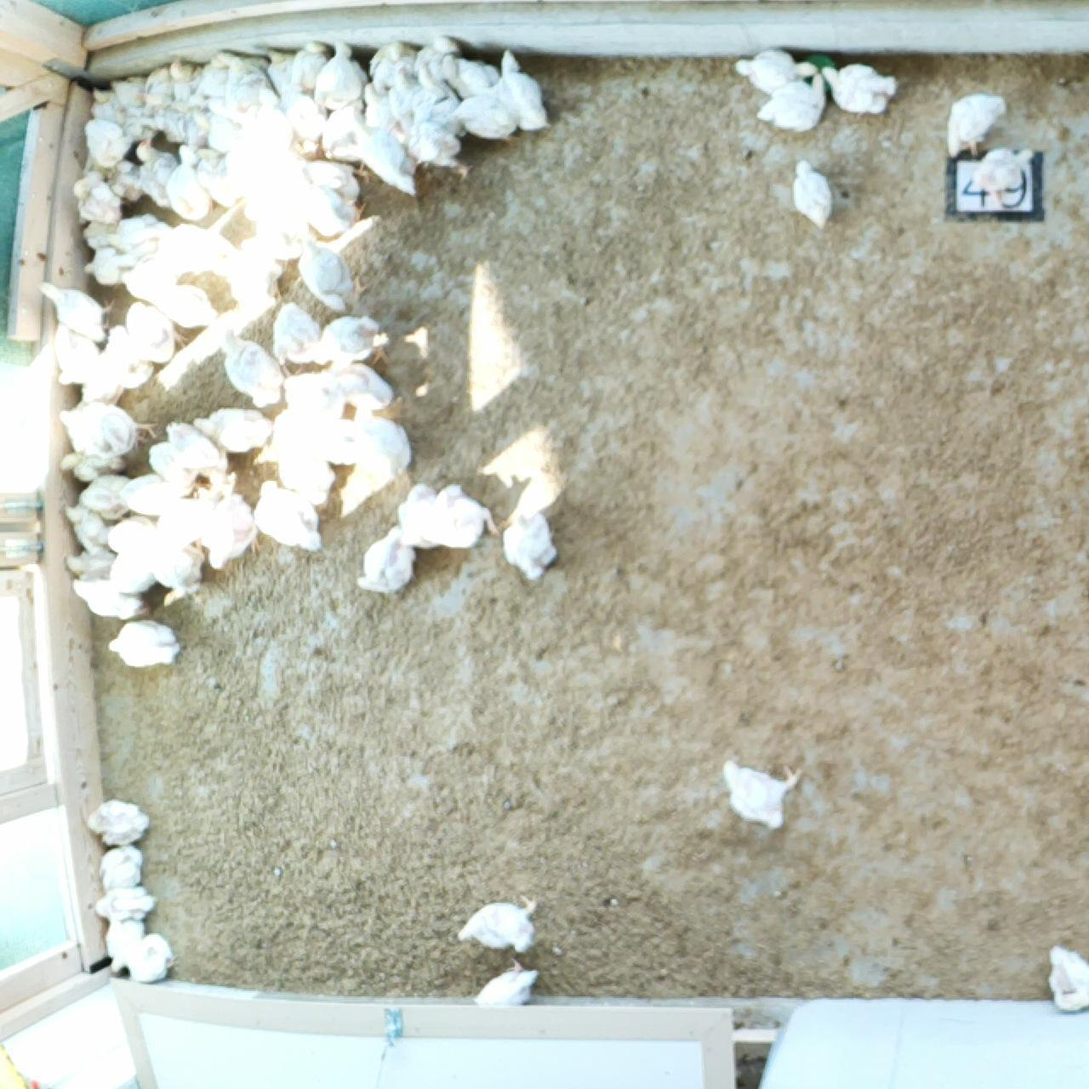chicken: (718, 748, 812, 838), (450, 888, 549, 956), (33, 275, 120, 345), (216, 322, 287, 407), (296, 233, 369, 314), (57, 401, 161, 457), (420, 481, 499, 554), (350, 120, 423, 199), (491, 45, 554, 135), (253, 475, 325, 553), (820, 58, 903, 122), (500, 504, 562, 587), (403, 115, 477, 184), (220, 239, 287, 315), (349, 406, 413, 485), (188, 404, 274, 462), (269, 427, 336, 501), (754, 69, 829, 135), (355, 519, 419, 595), (971, 141, 1040, 211), (198, 492, 259, 570), (731, 45, 819, 99), (944, 91, 1008, 163), (104, 616, 183, 673), (144, 538, 211, 605), (125, 296, 188, 365), (469, 955, 545, 1012), (311, 37, 369, 111), (269, 298, 324, 376), (165, 417, 231, 478), (321, 313, 389, 372), (294, 179, 364, 236), (447, 92, 520, 146), (394, 476, 445, 553), (290, 412, 362, 466), (325, 359, 396, 413), (788, 154, 837, 230), (82, 795, 152, 848), (47, 318, 100, 388), (71, 574, 149, 621), (281, 363, 348, 417), (318, 97, 371, 165), (409, 62, 466, 125), (119, 470, 195, 517), (102, 322, 155, 389), (1041, 941, 1089, 1013), (119, 928, 178, 986), (132, 137, 178, 210), (299, 155, 375, 199), (77, 471, 140, 523), (166, 154, 213, 223), (196, 146, 243, 212), (73, 167, 125, 226), (155, 496, 212, 549), (144, 439, 202, 491), (365, 33, 416, 92), (238, 215, 304, 260), (146, 282, 217, 323), (438, 49, 500, 95), (101, 914, 148, 974), (61, 499, 115, 551), (249, 88, 294, 150), (288, 39, 334, 99), (92, 885, 161, 924), (409, 31, 460, 82), (57, 543, 123, 582), (95, 841, 147, 890), (81, 243, 134, 291), (119, 254, 180, 295), (113, 211, 172, 253), (56, 447, 128, 481), (112, 546, 161, 594), (78, 356, 121, 410), (82, 117, 130, 165), (101, 154, 145, 204), (101, 509, 158, 547), (217, 45, 265, 89), (142, 100, 189, 144), (204, 113, 251, 157), (285, 91, 324, 143), (176, 102, 215, 153), (207, 79, 263, 114), (171, 54, 205, 107), (110, 75, 153, 116), (143, 63, 179, 111), (120, 102, 160, 143), (194, 53, 231, 97), (360, 81, 393, 130), (384, 69, 416, 119), (262, 44, 295, 91), (88, 84, 125, 123), (79, 216, 117, 248)
